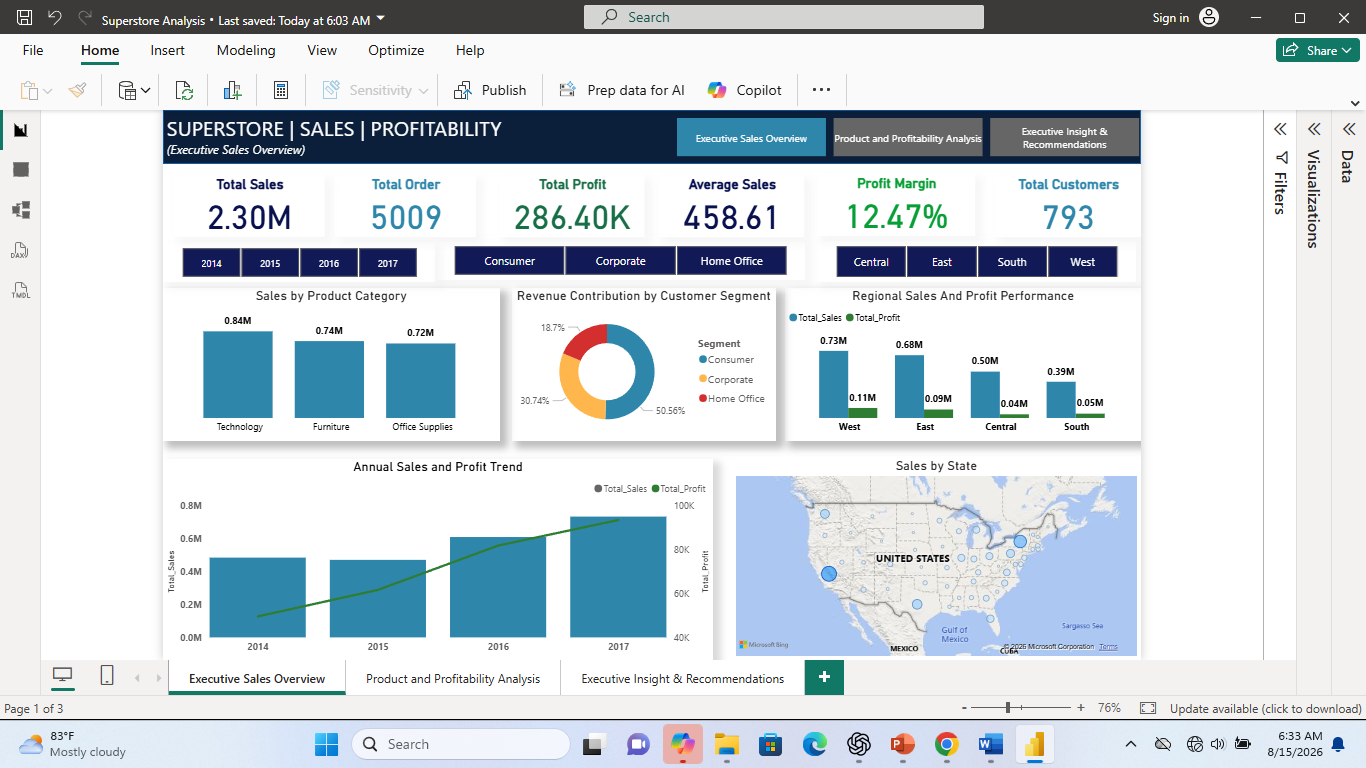

The page's visual inventory and layout, read from the dashboard file:
{"tool":"powerbi","page":{"name":"Executive Sales Overview","canvas":[1280,720],"ordinal":0},"visuals":[{"type":"card","title":"Total Sales","fields":{"Values":["Sample - Superstore.Total_Sales"]},"box":[14.4,85,197.3,80.6],"z":0},{"type":"card","title":"Total Order","fields":{"Values":["Sample - Superstore.Total_Order"]},"box":[224.6,85,184.3,80.6],"z":1000},{"type":"card","title":"Total Profit","fields":{"Values":["Sample - Superstore.Total_Profit"]},"box":[440.6,85,188.6,80.6],"z":2000},{"type":"card","title":"Profit Margin","fields":{"Values":["Sample - Superstore.Profit_Marginn"]},"box":[855.7,84.3,207.1,81.4],"z":3000},{"type":"card","title":"Average Sales","fields":{"Values":["Sample - Superstore.Average_sales"]},"box":[649.4,85,190.1,80.6],"z":4000},{"type":"card","title":"Total Customers","fields":{"Values":["Count(Sample - Superstore.Customer ID)"]},"box":[1088.6,85,191.5,80.6],"z":5000},{"type":"slicer","fields":{"Values":["Calendar.Year"]},"box":[0,174.3,355.7,51.4],"z":6000},{"type":"slicer","fields":{"Values":["Sample - Superstore.Region"]},"box":[855.7,171.4,417.1,54.3],"z":7000},{"type":"slicer","fields":{"Values":["Sample - Superstore.Segment"]},"box":[355.7,171.4,484.3,51.4],"z":8000},{"type":"lineClusteredColumnComboChart","title":"Annual Sales and Profit Trend","fields":{"Category":["Calendar.Date.Variation.Date Hierarchy.Year"],"Y":["Sample - Superstore.Total_Sales"],"Y2":["Sample - Superstore.Total_Profit"]},"box":[0,456.5,720,263.5],"z":9000},{"type":"clusteredColumnChart","title":"Sales by Product Category","fields":{"Category":["Sample - Superstore.Category"],"Y":["Sample - Superstore.Total_Sales"]},"box":[0,233.3,440.6,200.2],"z":10000},{"type":"donutChart","title":"Revenue Contribution by Customer Segment","fields":{"Category":["Sample - Superstore.Segment"],"Y":["Sample - Superstore.Total_Sales"]},"box":[456.5,233.3,345.6,200.2],"z":11000},{"type":"clusteredColumnChart","title":"Regional Sales And Profit Performance ","fields":{"Category":["Sample - Superstore.Region"],"Y":["Sample - Superstore.Total_Sales","Sample - Superstore.Total_Profit"]},"box":[813.6,233.3,466.6,200.2],"z":12000},{"type":"shape","box":[-0.2,-0.2,1280,70.6],"z":13000},{"type":"textbox","box":[0,0,597.3,70.2],"z":14000},{"type":"pageNavigator","box":[672.9,10,607.1,50],"z":15000},{"type":"map","title":"Sales by State","fields":{"Size":["Sample - Superstore.Total_Sales"],"Category":["usa_states_dataset.State"]},"box":[744.6,455.6,535.4,264.3],"z":16000}]}

Visuals, with their boxes on the page's 1280x720 design canvas (x1, y1, x2, y2). These are canvas units, not pixel positions in the 1366x768 screenshot, which may show the page scaled, cropped or inside an application window:
"Total Sales" card: [14,85,212,166]
"Total Order" card: [225,85,409,166]
"Total Profit" card: [441,85,629,166]
"Profit Margin" card: [856,84,1063,166]
"Average Sales" card: [649,85,840,166]
"Total Customers" card: [1089,85,1280,166]
slicer - Calendar.Year: [0,174,356,226]
slicer - Sample - Superstore.Region: [856,171,1273,226]
slicer - Sample - Superstore.Segment: [356,171,840,223]
"Annual Sales and Profit Trend" lineClusteredColumnComboChart: [0,456,720,720]
"Sales by Product Category" clusteredColumnChart: [0,233,441,434]
"Revenue Contribution by Customer Segment" donutChart: [456,233,802,434]
"Regional Sales And Profit Performance " clusteredColumnChart: [814,233,1280,434]
shape: [0,0,1280,70]
textbox: [0,0,597,70]
pageNavigator: [673,10,1280,60]
"Sales by State" map: [745,456,1280,720]
